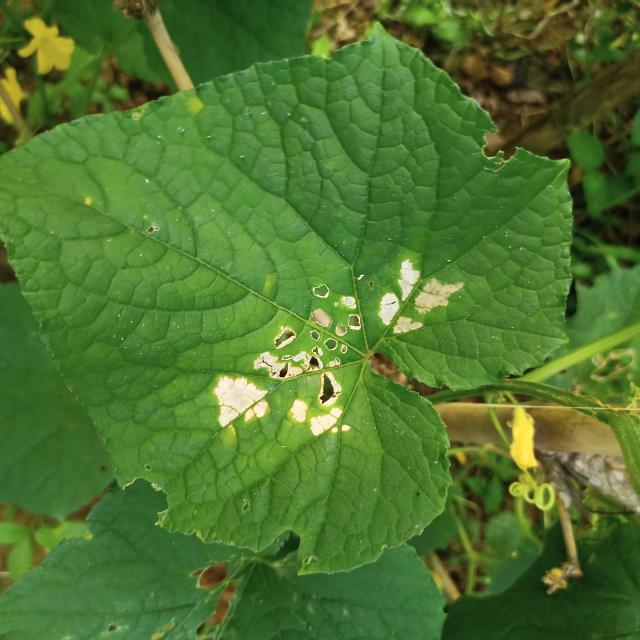disease_cucumber: (208, 273, 365, 446), (377, 255, 462, 339)
